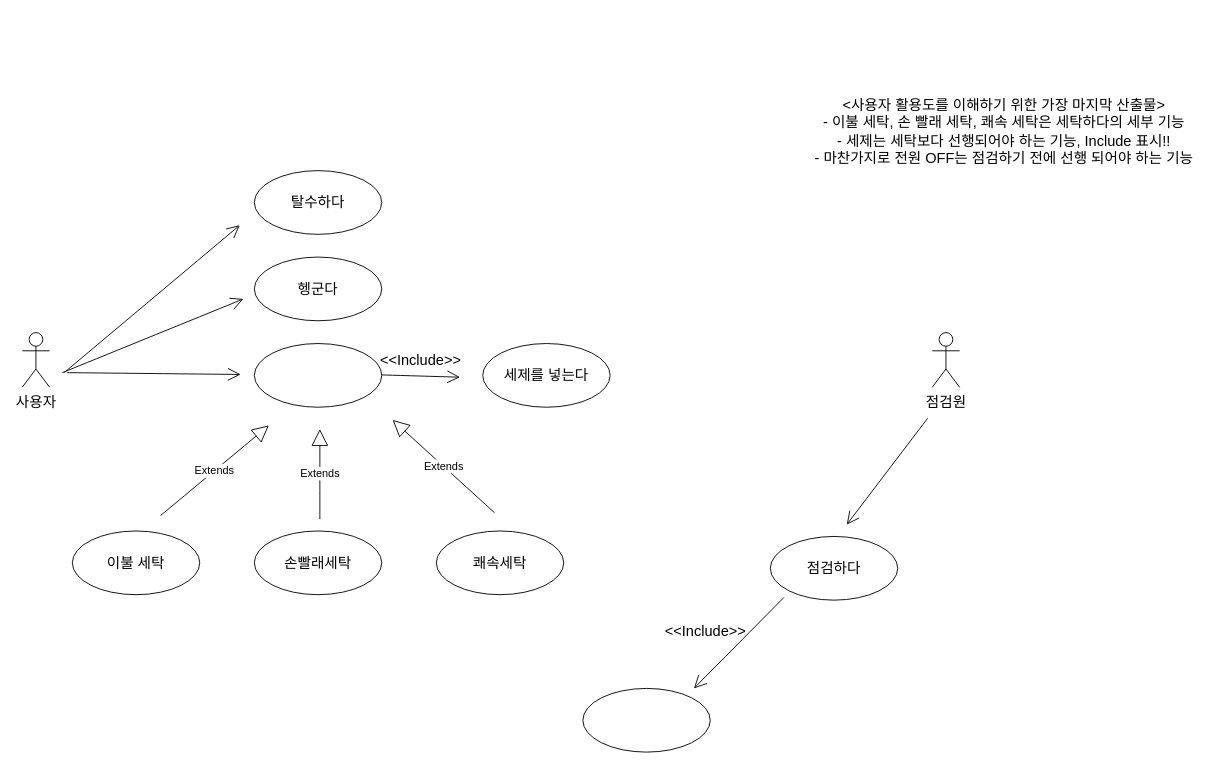
The diagram is 1226 pixels wide and 768 high, and some of its shapes have lost their labels. Here are the shapes that lost their labels. From the top down, the centre of each, then its label:
At (x=317, y=375): "세탁하다".
At (x=646, y=720): "전원 OFF".
